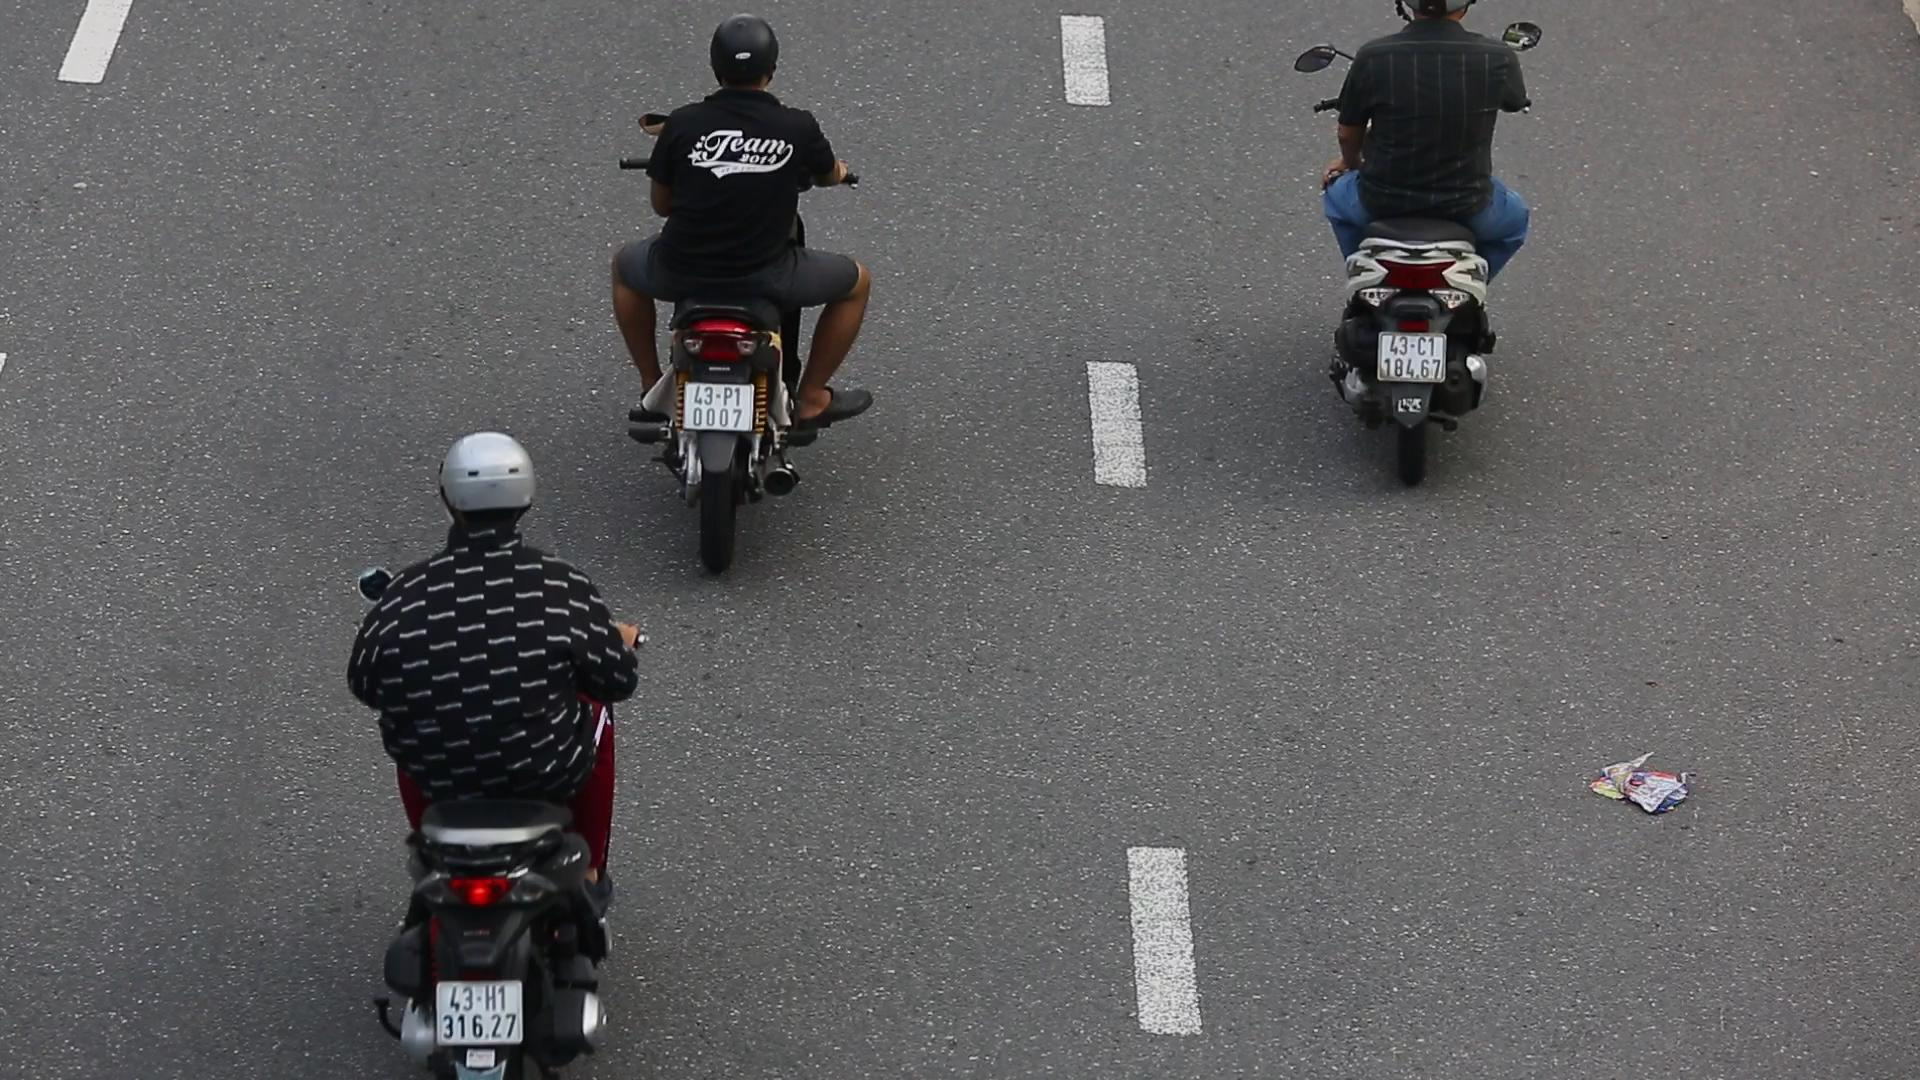motobike: (340, 421, 661, 1080), (600, 3, 868, 589)
